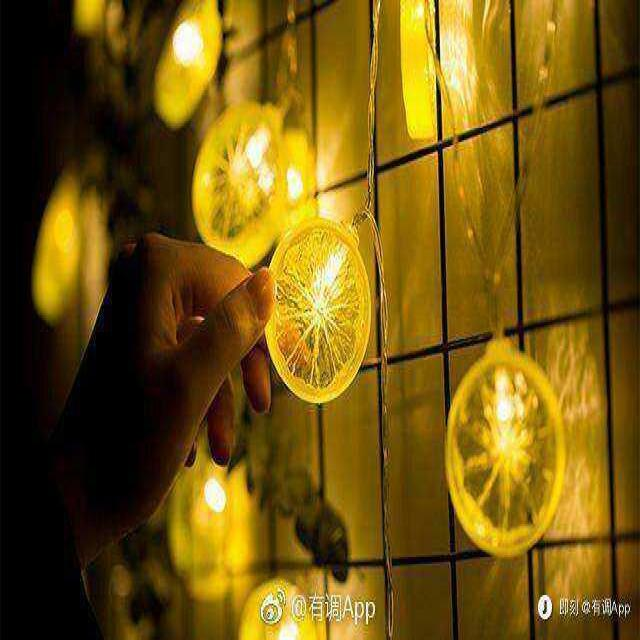other: (268, 205, 364, 410), (458, 360, 555, 558), (396, 0, 447, 148), (240, 116, 305, 218), (254, 589, 301, 637), (167, 31, 210, 82), (198, 470, 225, 528)
